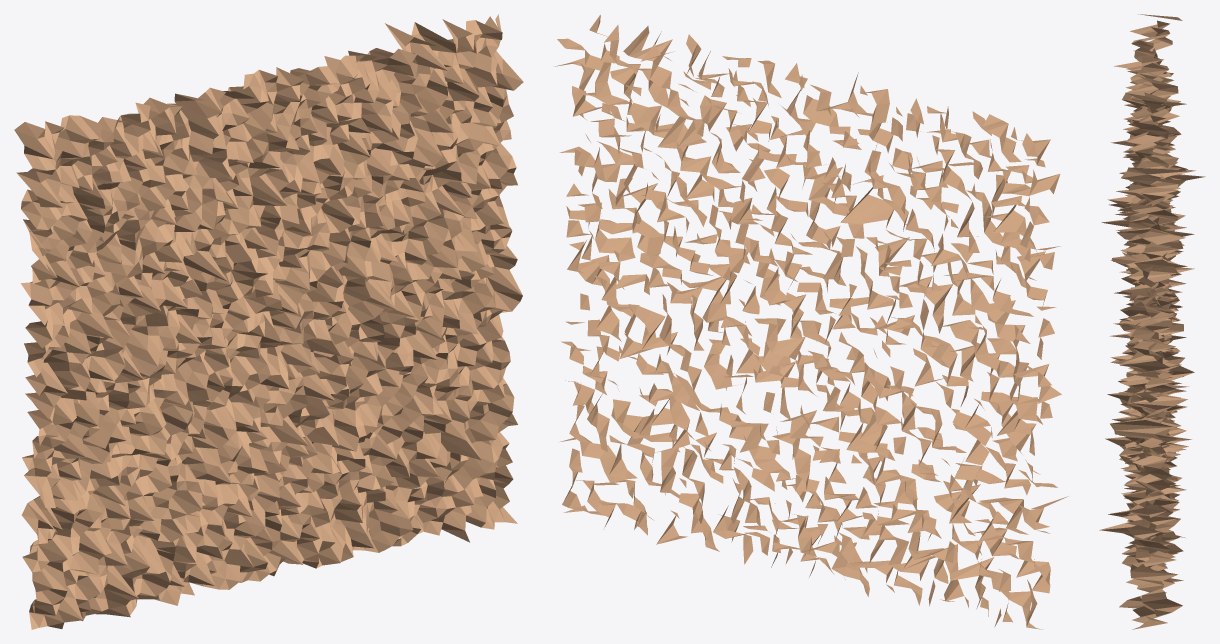
The picture shows the model from 3 angles, left to right: view 1: azimuth 30°, elevation 25°; view 2: azimuth 150°, elevation 25°; view 3: azimuth 270°, elevation 25°; orthographic projection. The views are drawn at different scales.
Bounding box in the file's own units: 2 × 2 × 0.4614.
